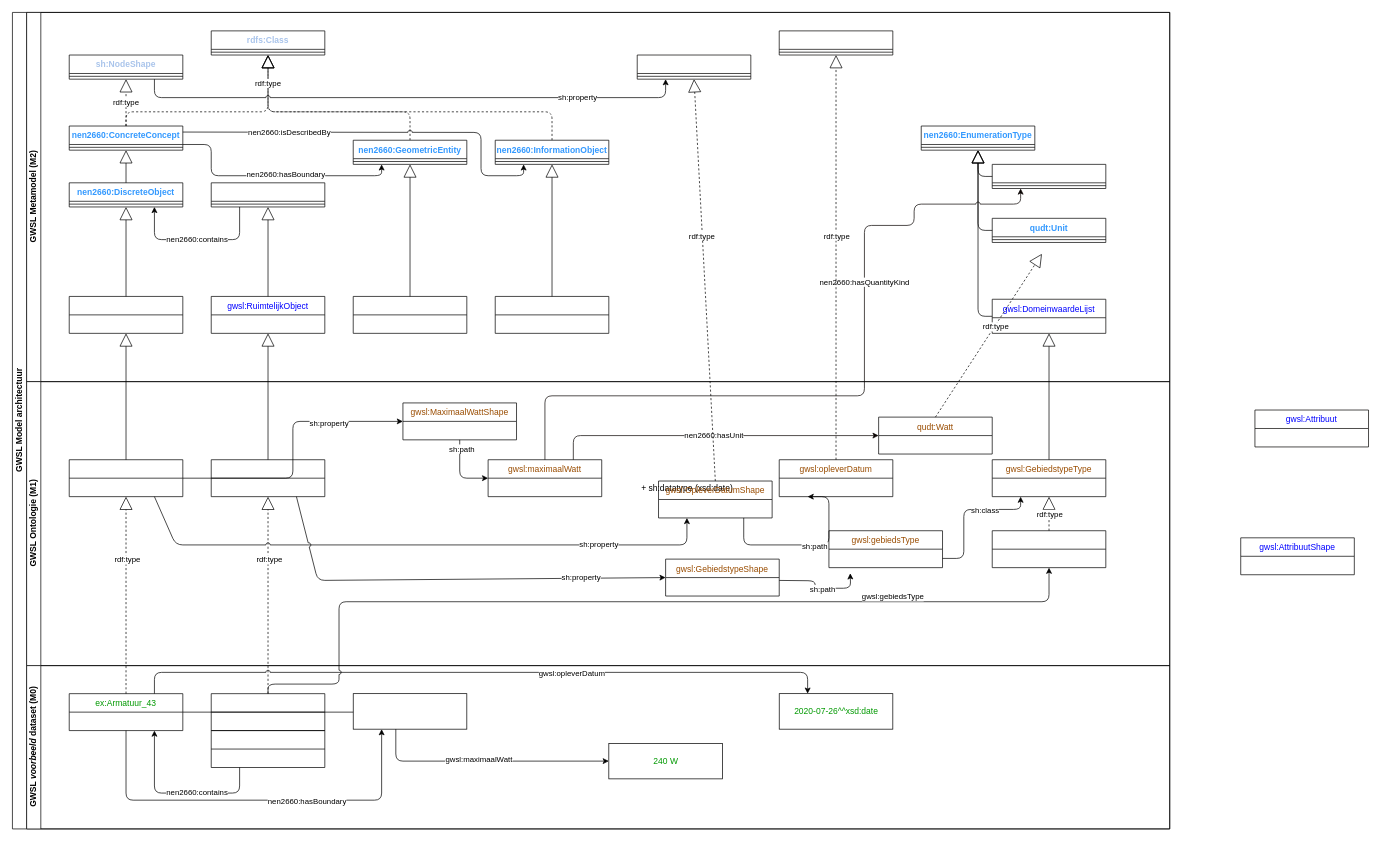
Some shapes in this 1381 by 841 pixel diagram are drawn without their labels. The shapes that lost their labels are listed below. From the top down, each one's centre as x and y in pixels, then its label:
(x=836, y=42): rdf:Property
(x=694, y=66): sh:PropertyShape
(x=268, y=194): nen2660:SpatialRegion
(x=1049, y=176): qudt:QuantityKind
(x=126, y=314): gwsl:FysiekObject
(x=410, y=314): gwsl:GeometrischeEntiteit
(x=552, y=314): gwsl:InformatieObject
(x=126, y=478): gwsl:Armatuur
(x=268, y=478): gwsl:Gebiedsindeling
(x=1049, y=549): gwsl:AgrarischGebied
(x=268, y=712): ex:Gebied_ABC
(x=410, y=711): POINT (51.823444 5.777150) ^^geo:wktLiteral
(x=268, y=749): ex:Gebied_XYZ
